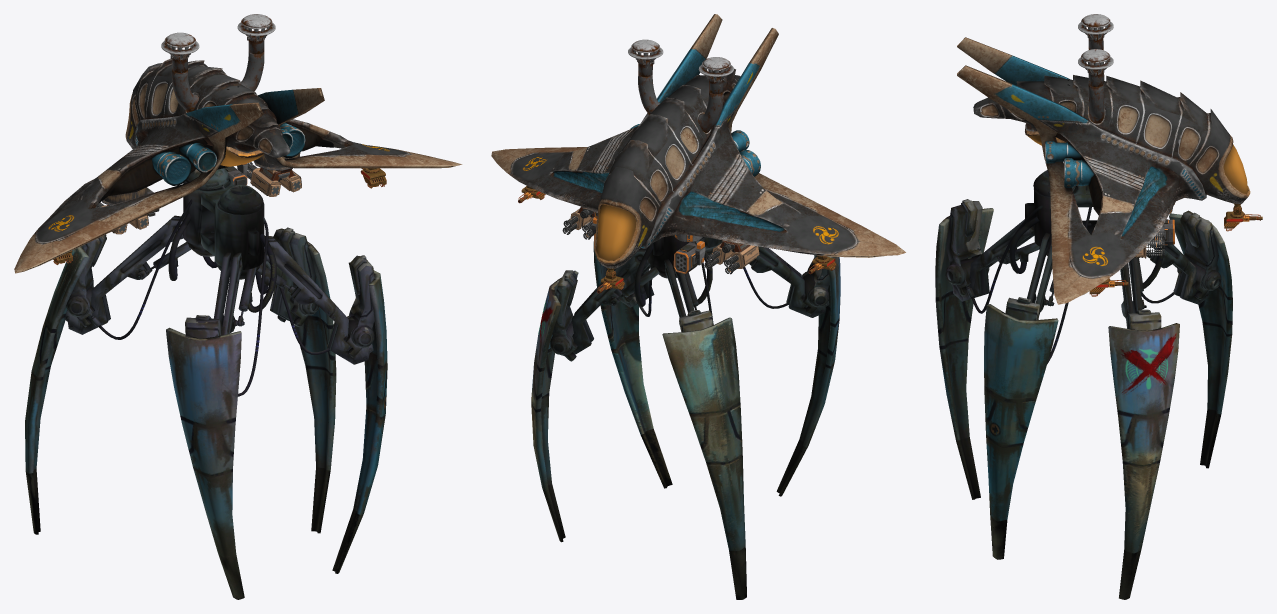
File: triloknight.glb
3 renders of one model, left to right at view 1: azimuth 30°, elevation 25°; view 2: azimuth 150°, elevation 25°; view 3: azimuth 270°, elevation 25°, orthographic. The views are drawn at different scales.
Visible parts, largest first — view 1: turret01-arms, L_Bleg_02, R_Fleg_02, R_Bleg_02, L_Fleg_02, L_Fleg_01, legbase_B, R_Bleg_01, L_Bleg_01, legbase_F, smokeL, smokeR (+2 smaller); view 2: turret01-arms, L_Fleg_02, R_Fleg_02, R_Bleg_02, L_Bleg_02, R_Fleg_01, bridgecover, L_Bleg_01, smokeL, L_Fleg_01, smokeR, turret05-arms (+3 smaller); view 3: turret01-arms, R_Fleg_02, R_Bleg_02, L_Bleg_02, L_Fleg_02, L_Bleg_01, L_Fleg_01, legbase_B, R_Bleg_01, smokeR, R_Fleg_01, smokeL (+2 smaller).
Boxes of the visible parts, bbox=[...] form: turret01-arms: bbox=[14, 58, 462, 273]; L_Bleg_02: bbox=[166, 315, 244, 599]; R_Fleg_02: bbox=[265, 227, 336, 533]; R_Bleg_02: bbox=[332, 255, 387, 573]; L_Fleg_02: bbox=[25, 234, 106, 534]; L_Fleg_01: bbox=[64, 189, 200, 339]; legbase_B: bbox=[201, 185, 264, 279]; R_Bleg_01: bbox=[221, 185, 373, 364]; L_Bleg_01: bbox=[213, 217, 276, 396]; legbase_F: bbox=[183, 168, 234, 256]; smokeL: bbox=[161, 32, 199, 112]; smokeR: bbox=[237, 14, 275, 91]; turret01-arms: bbox=[491, 14, 905, 268]; L_Fleg_02: bbox=[662, 310, 746, 599]; R_Fleg_02: bbox=[531, 270, 578, 542]; R_Bleg_02: bbox=[593, 241, 672, 488]; L_Bleg_02: bbox=[776, 255, 840, 496]; R_Fleg_01: bbox=[561, 243, 659, 355]; bridgecover: bbox=[594, 203, 639, 263]; L_Bleg_01: bbox=[719, 240, 829, 317]; smokeL: bbox=[698, 57, 733, 132]; L_Fleg_01: bbox=[664, 251, 713, 324]; smokeR: bbox=[628, 39, 663, 114]; turret05-arms: bbox=[704, 240, 759, 274]; turret01-arms: bbox=[957, 37, 1248, 304]; R_Fleg_02: bbox=[1108, 309, 1179, 599]; R_Bleg_02: bbox=[984, 297, 1058, 559]; L_Bleg_02: bbox=[935, 199, 993, 499]; L_Fleg_02: bbox=[1169, 210, 1232, 468]; L_Bleg_01: bbox=[951, 205, 1042, 313]; L_Fleg_01: bbox=[1141, 244, 1209, 304]; legbase_B: bbox=[1025, 170, 1096, 255]; R_Bleg_01: bbox=[1027, 207, 1091, 363]; smokeR: bbox=[1078, 49, 1113, 123]; R_Fleg_01: bbox=[1120, 245, 1163, 325]; smokeL: bbox=[1078, 14, 1113, 80].
Size of the model in its own units: 261 by 303 by 176.
Materials: 7 (6 with a texture image).
